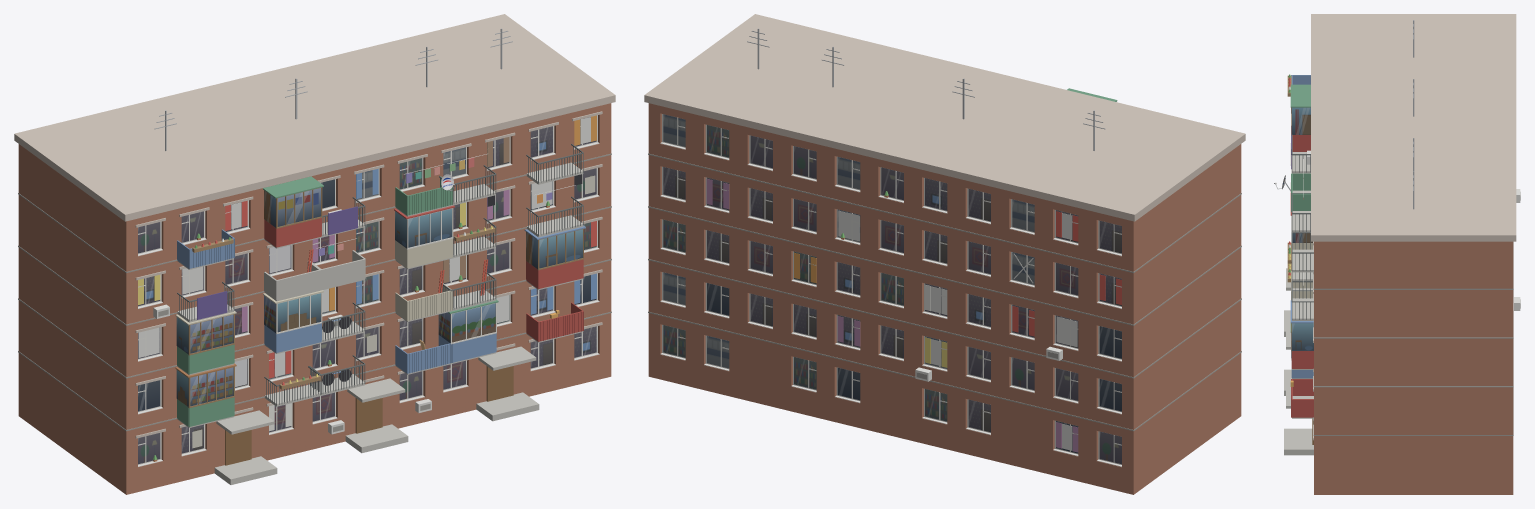
File: brick_khrushchevka.glb
The picture shows the model from 3 angles, left to right: view 1: azimuth 30°, elevation 25°; view 2: azimuth 150°, elevation 25°; view 3: azimuth 270°, elevation 25°; orthographic projection. The views are drawn at different scales.
Visible parts, largest first — view 1: brick_khrushchevka; view 2: brick_khrushchevka; view 3: brick_khrushchevka.
Part boxes in pixels (box(x1,y1,x2,y2)): brick_khrushchevka: box(14, 14, 615, 494); brick_khrushchevka: box(644, 14, 1245, 494); brick_khrushchevka: box(1274, 14, 1520, 494).
Size of the model in its own units: 26.3 by 16.5 by 12.37.
Materials: 47 (3 with a texture image).
